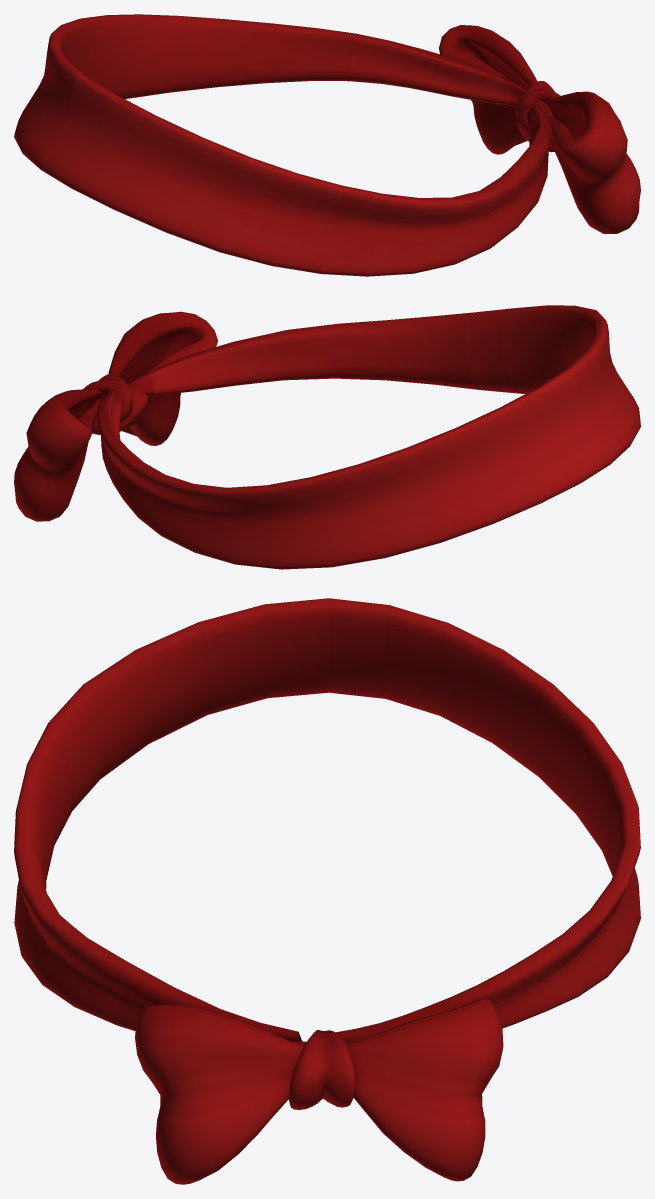
3 renders of one model, top to bottom at view 1: azimuth 30°, elevation 25°; view 2: azimuth 150°, elevation 25°; view 3: azimuth 270°, elevation 25°, orthographic. The views are drawn at different scales.
Visible parts, largest first — view 1: model_0.002; view 2: model_0.002; view 3: model_0.002.
Part boxes in pixels (x1,y1,x2,y2): model_0.002: (14,14,640,276); model_0.002: (14,305,640,569); model_0.002: (14,598,640,1184).
Bounding box in the file's own units: 58.4 × 23.7 × 46.33.
Materials: 1 (1 with a texture image).
